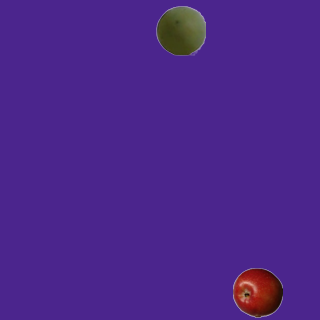Apple Braeburn: (232, 267, 282, 317)
Grape White 4: (155, 5, 205, 55)
